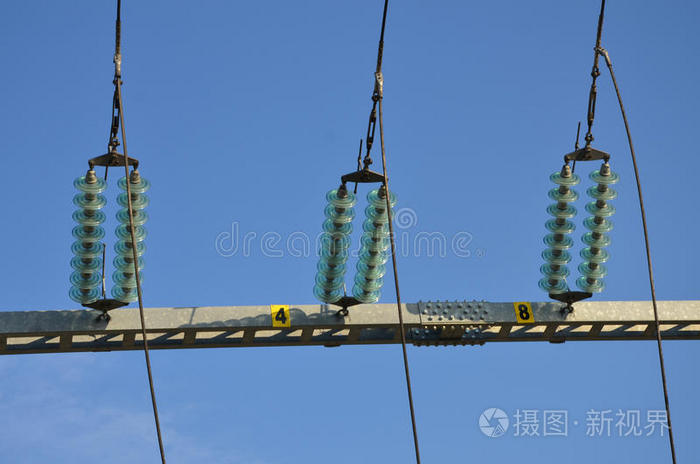insulator: (110, 174, 151, 302), (579, 170, 621, 294), (540, 164, 580, 294), (313, 188, 357, 305), (356, 188, 398, 301), (70, 172, 103, 302)
